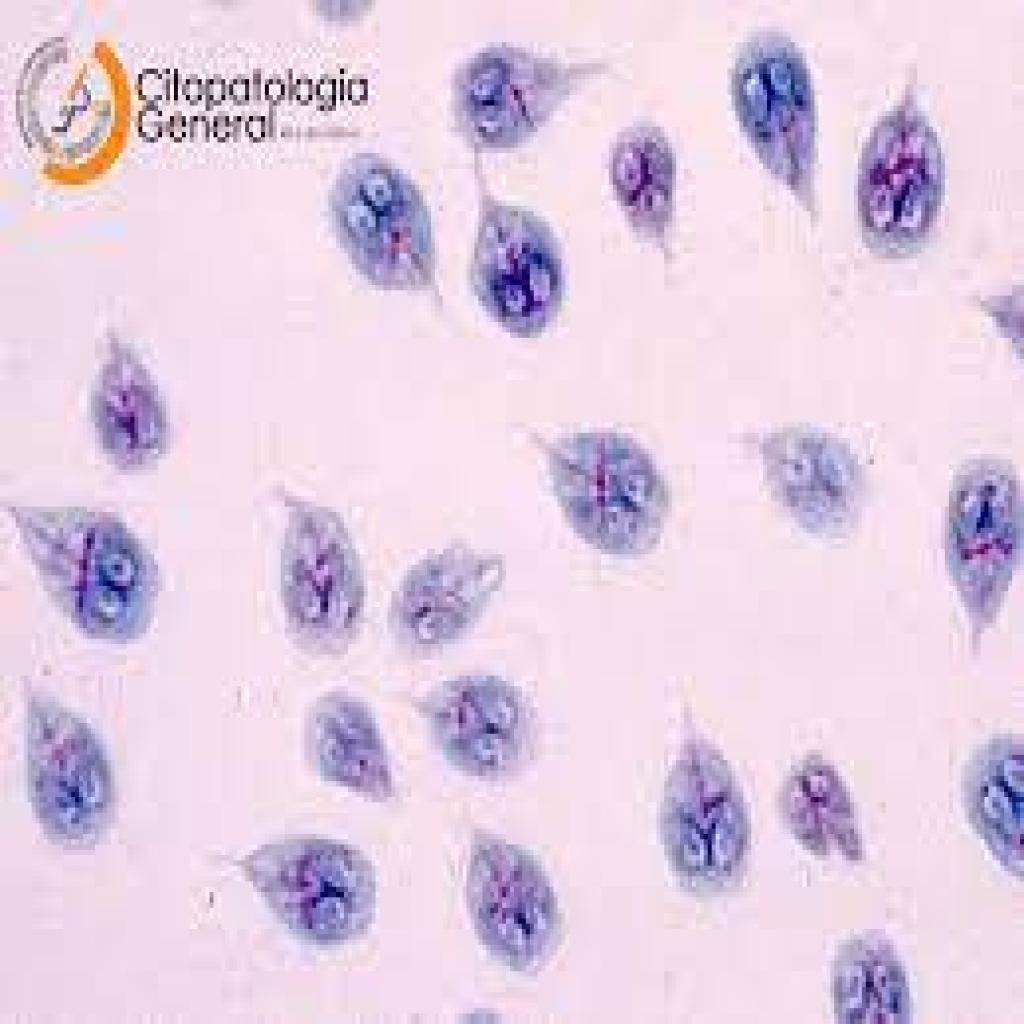Giardia: (8, 486, 170, 649), (645, 692, 751, 913), (518, 412, 672, 560), (728, 21, 830, 238), (214, 818, 380, 950), (8, 660, 122, 850), (320, 142, 447, 312), (842, 69, 945, 269), (739, 412, 882, 549), (459, 164, 565, 343), (463, 813, 573, 982), (941, 449, 1024, 665), (75, 306, 178, 480), (767, 728, 878, 882), (443, 42, 621, 137), (415, 676, 554, 792), (273, 486, 360, 660), (391, 533, 506, 660), (296, 681, 400, 802), (601, 111, 684, 248), (957, 718, 1024, 887), (826, 918, 918, 1024)
